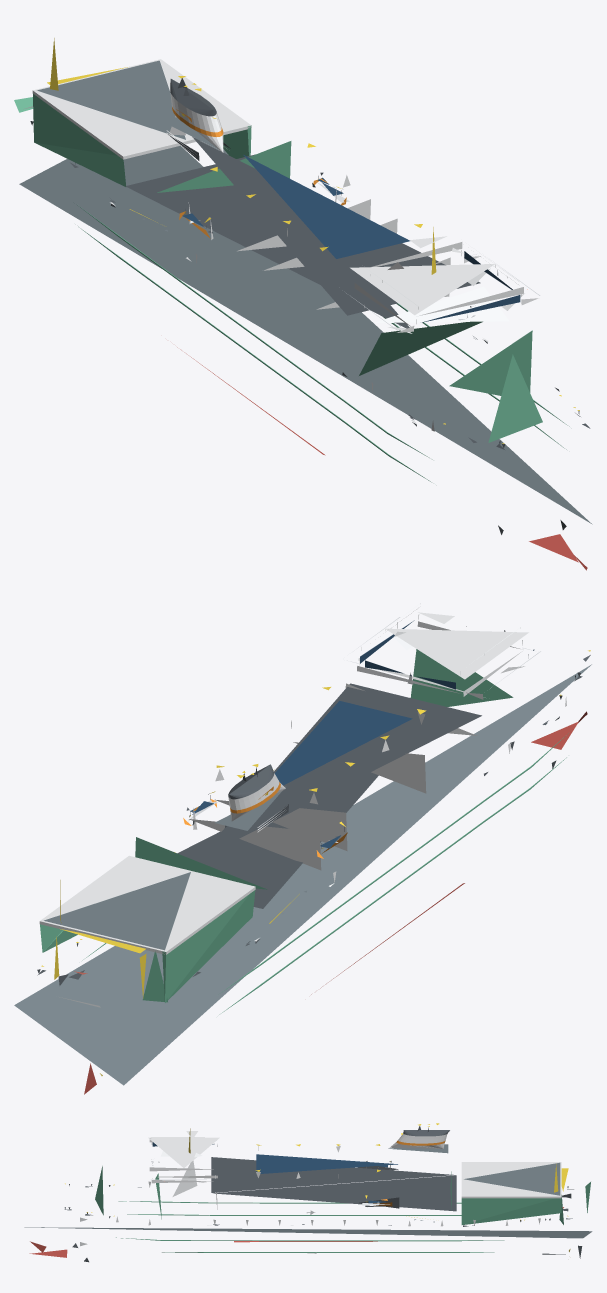
File: ship_18.glb
The picture shows the model from 3 angles, top to bottom: view 1: azimuth 30°, elevation 25°; view 2: azimuth 150°, elevation 25°; view 3: azimuth 270°, elevation 25°; orthographic projection. The views are drawn at different scales.
Visible parts, largest first — view 1: TrueHelm_Ship_18; view 2: TrueHelm_Ship_18; view 3: TrueHelm_Ship_18.
Part boxes in pixels (left/top/right/bottom): TrueHelm_Ship_18: left=14, top=38, right=592, bottom=570; TrueHelm_Ship_18: left=14, top=603, right=591, bottom=1094; TrueHelm_Ship_18: left=24, top=1123, right=592, bottom=1262.
Size of the model in its own units: 0.1323 by 0.2041 by 0.8006.
